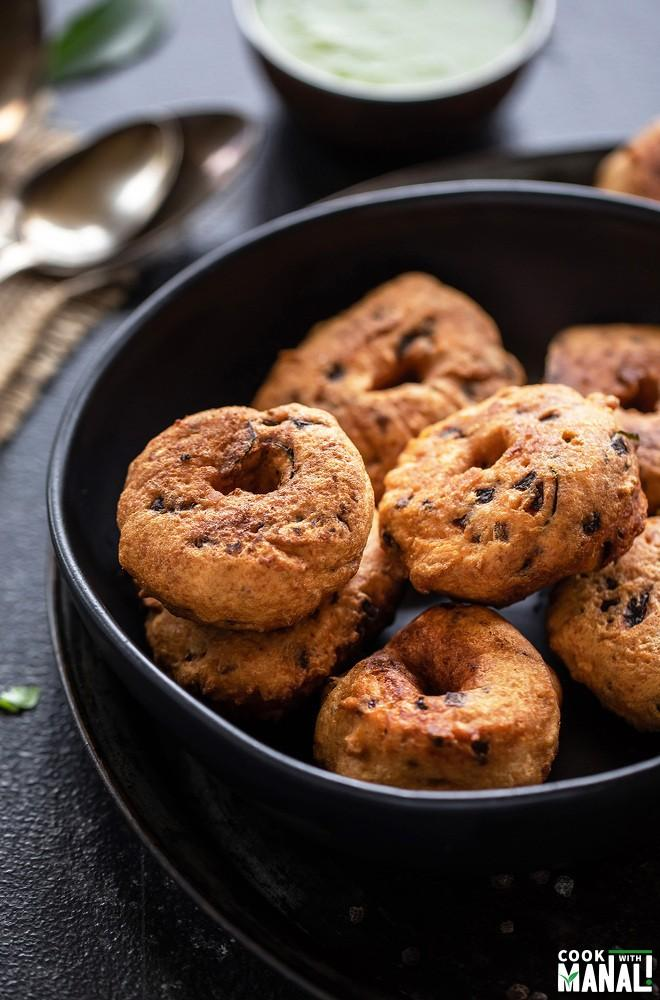medu vada: (97, 194, 660, 801)
